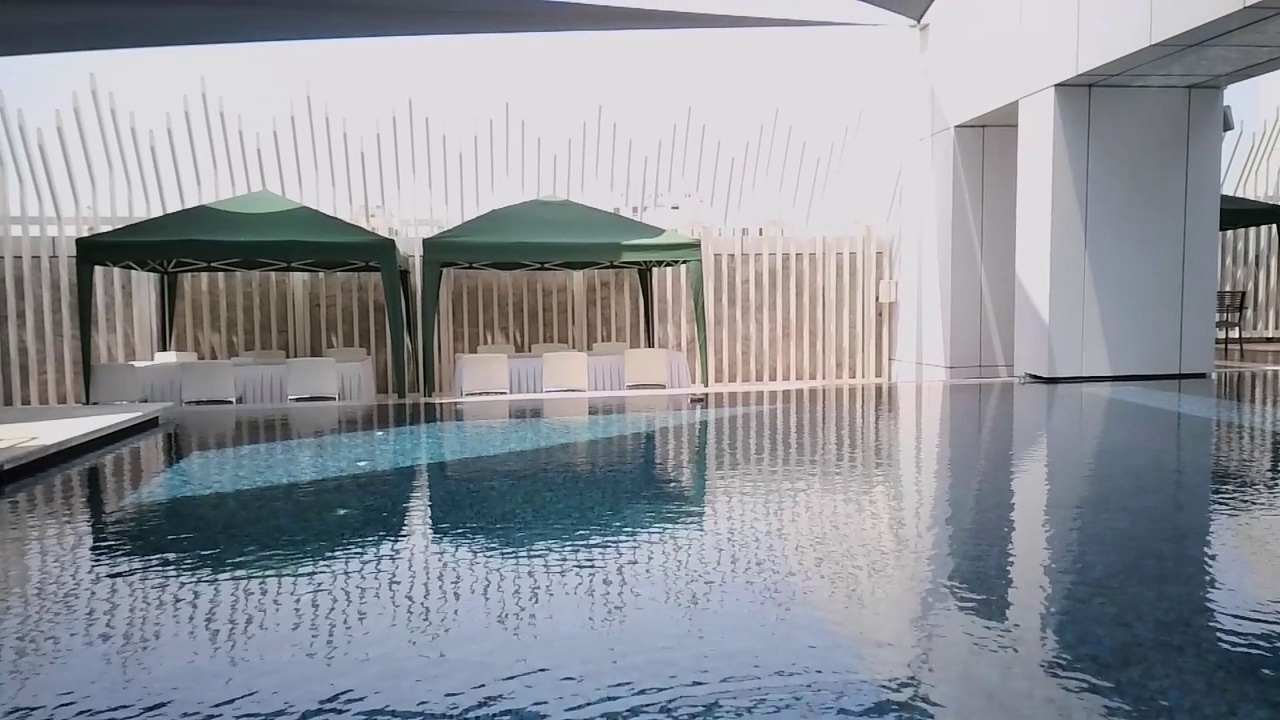debris: (683, 389, 710, 406), (1015, 371, 1026, 386)
